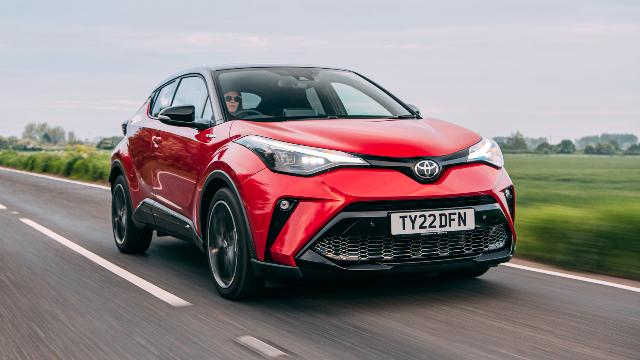toyota: (109, 66, 518, 300)
